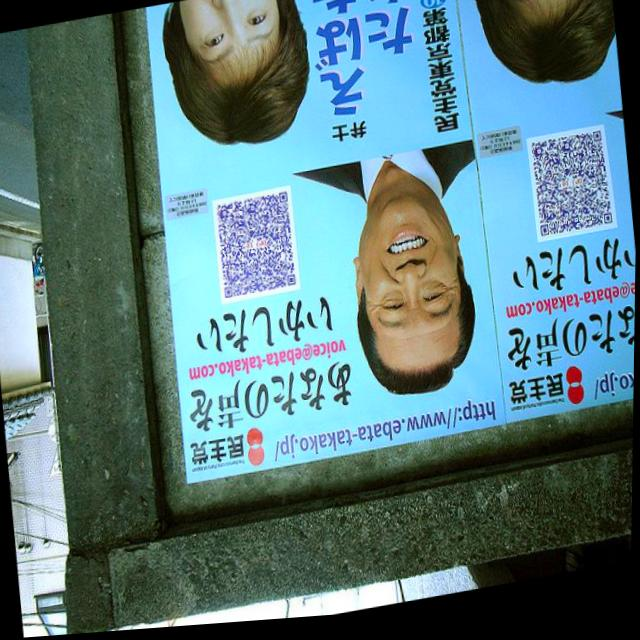qrcode: (531, 140, 614, 245), (217, 197, 297, 302)
